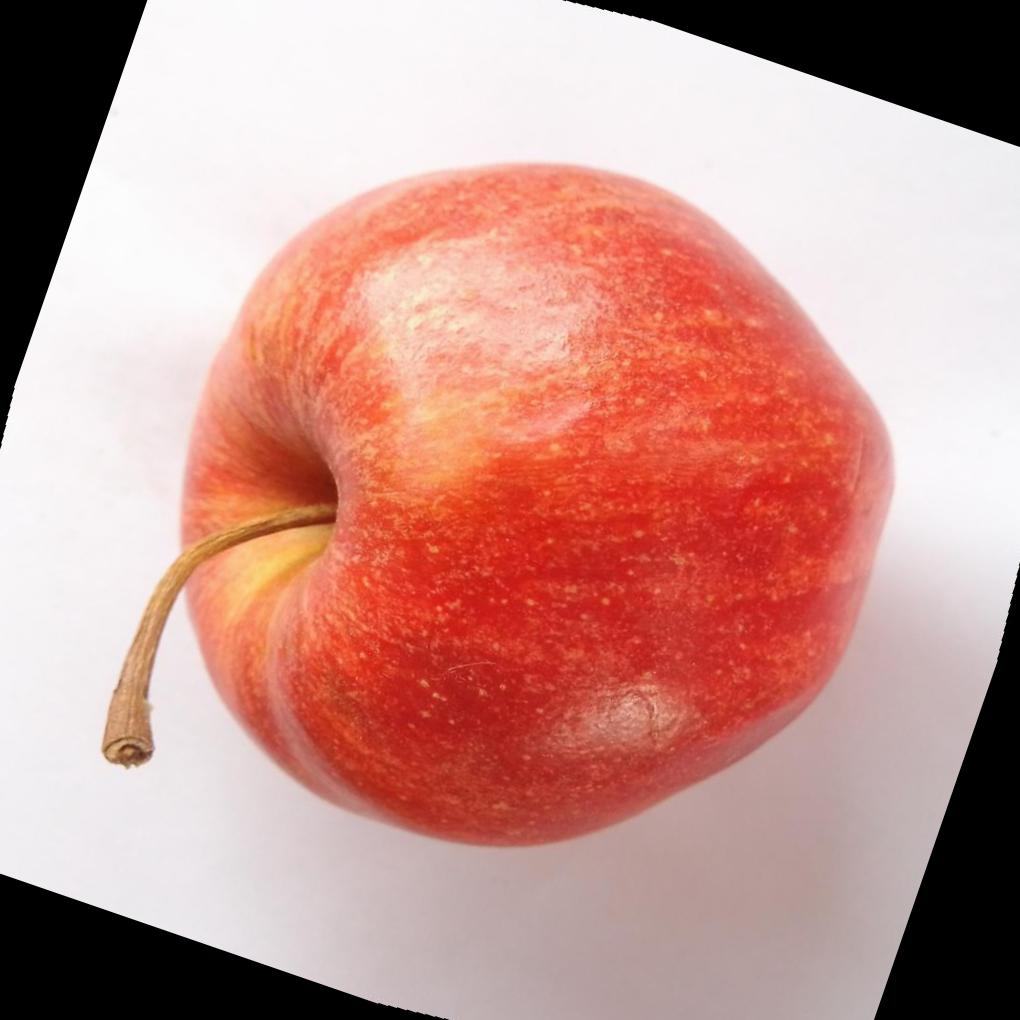FreshGuava: (101, 157, 898, 848)
